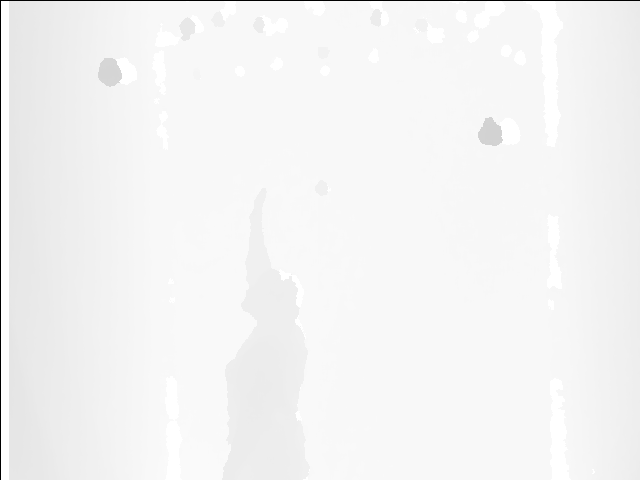hand: (246, 186, 271, 230)
